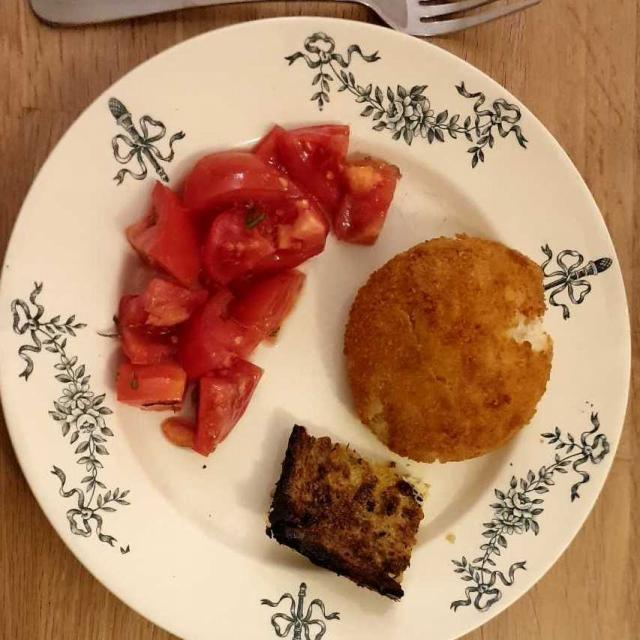tomato: (116, 126, 376, 453)
vegetables-baked: (270, 439, 423, 595)
